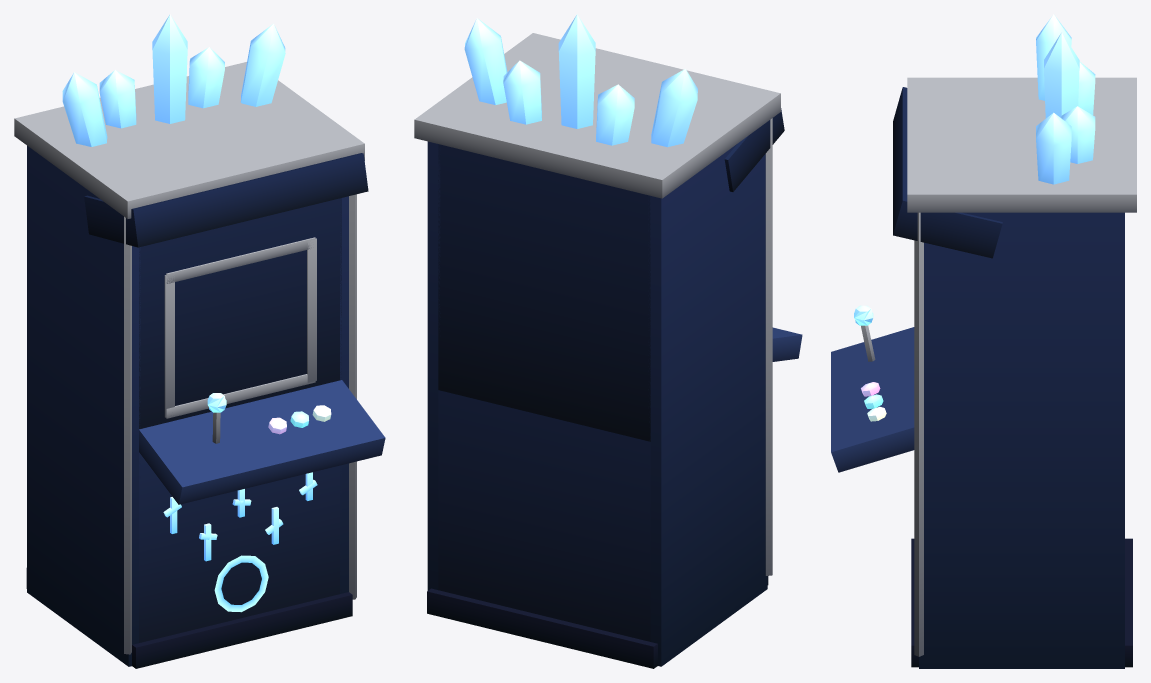
The model's file is arcade_cabinet.glb.
3 renders of one model, left to right at view 1: azimuth 30°, elevation 25°; view 2: azimuth 150°, elevation 25°; view 3: azimuth 270°, elevation 25°, orthographic. The views are drawn at different scales.
Visible parts, largest first — view 1: arcade_cabinet_trim, arcade_cabinet_glow; view 2: arcade_cabinet_trim, arcade_cabinet_glow; view 3: arcade_cabinet_trim, arcade_cabinet_glow.
Boxes of the visible parts, x1,y1,x2,y2 form: arcade_cabinet_trim: (14, 62, 385, 668); arcade_cabinet_glow: (62, 14, 331, 612); arcade_cabinet_trim: (414, 33, 802, 668); arcade_cabinet_glow: (464, 14, 697, 147); arcade_cabinet_trim: (831, 77, 1136, 668); arcade_cabinet_glow: (854, 14, 1095, 421).
Size of the model in its own units: 0.35 by 0.81 by 0.3862.
